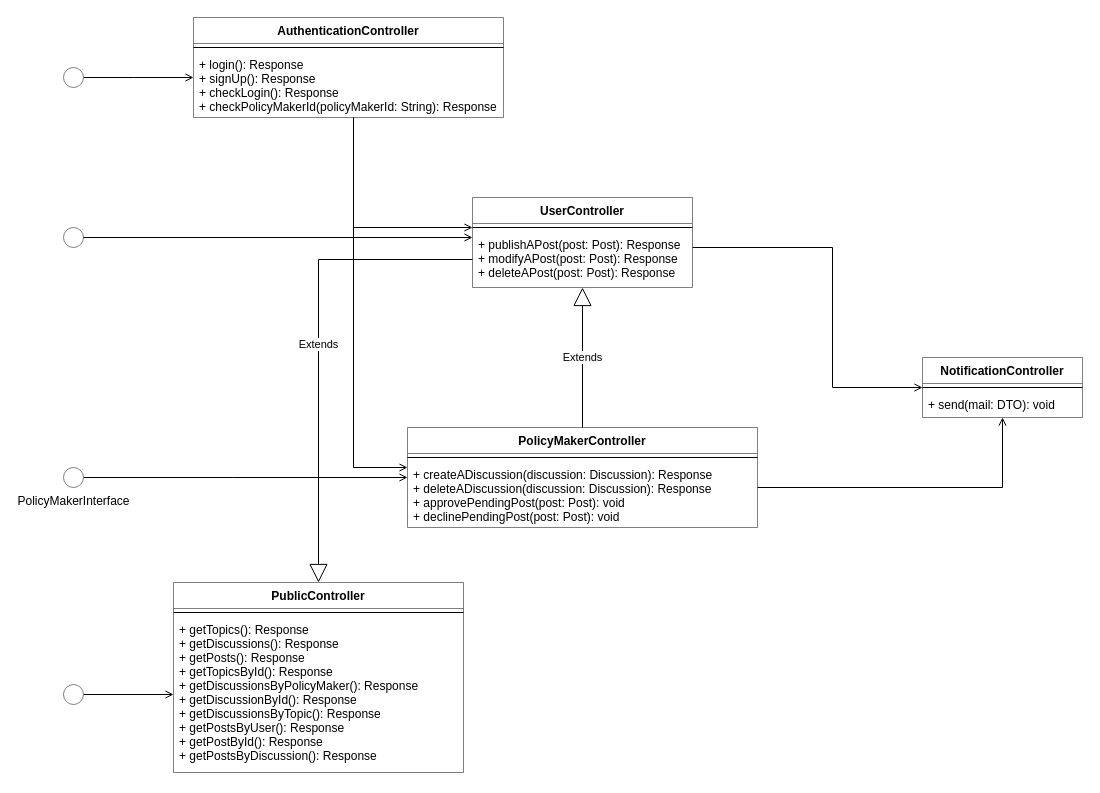
Image size: 1100x793. Some labels were removed from this diagram. Each missing label, with the centre of its shape:
ForumInterface: pixel 73 694
LoginInterface: pixel 73 77
UserInterface: pixel 73 237
